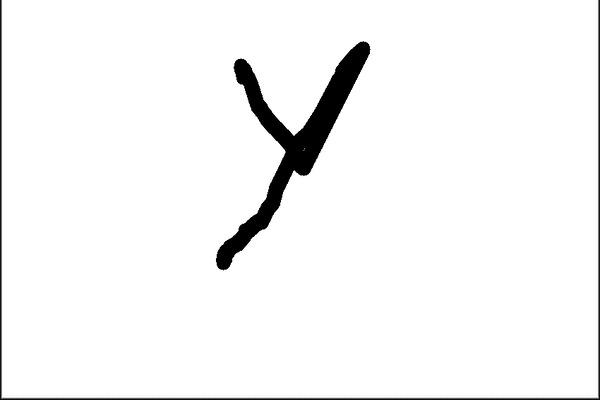Y: (196, 32, 374, 281)
